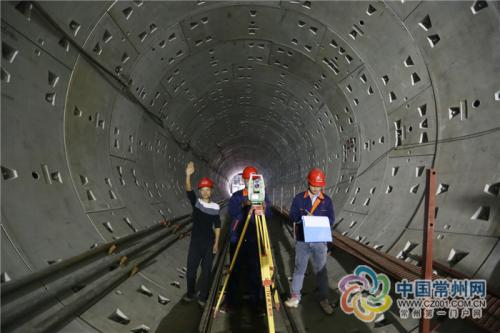helmet: (307, 166, 326, 194), (197, 175, 215, 198), (242, 165, 259, 189)
